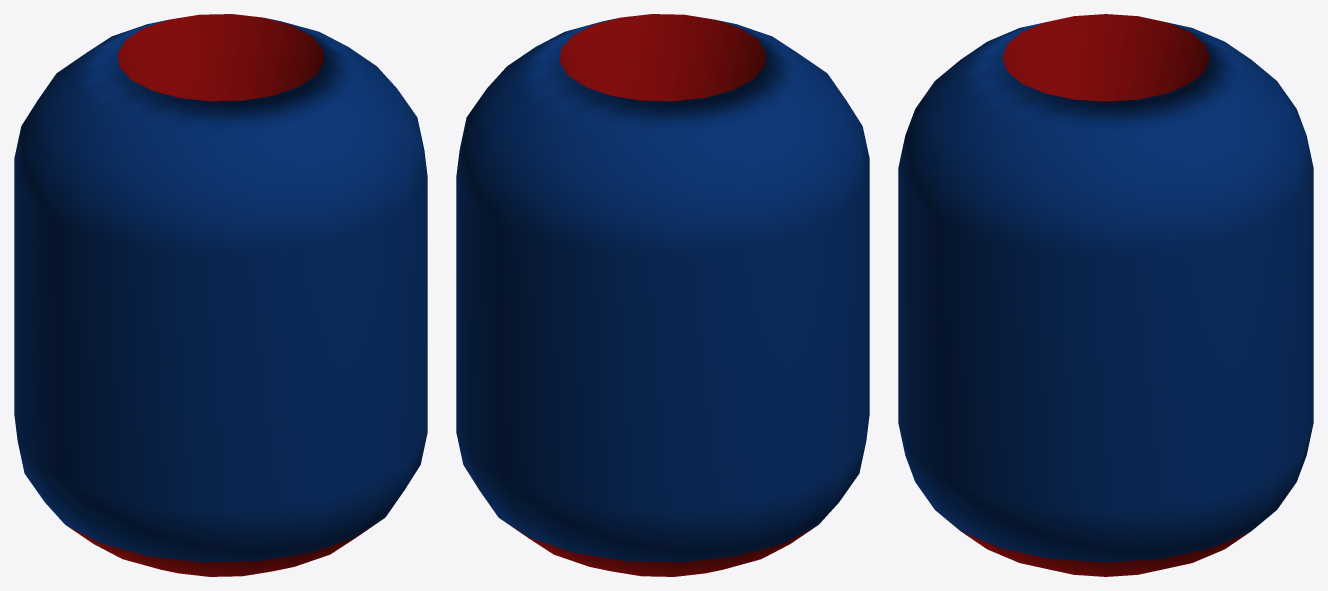
Rendered from Gloves.fbx.
3 renders of one model, left to right at view 1: azimuth 30°, elevation 25°; view 2: azimuth 150°, elevation 25°; view 3: azimuth 270°, elevation 25°, orthographic.
Parts seen in each view (by area): view 1: pCylinder1; view 2: pCylinder1; view 3: pCylinder1.
Boxes of the visible parts, <box> form: pCylinder1: <box>14,14,427,576</box>; pCylinder1: <box>456,14,869,576</box>; pCylinder1: <box>898,14,1313,576</box>.
Size of the model in its own units: 2 by 2.61 by 2.
